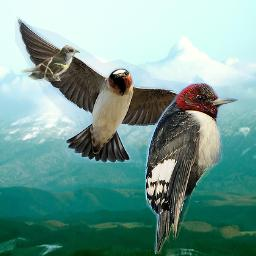Cuckoo: (21, 45, 80, 81)
Swallow: (15, 16, 229, 163)
Woodpecker: (145, 83, 239, 254)
